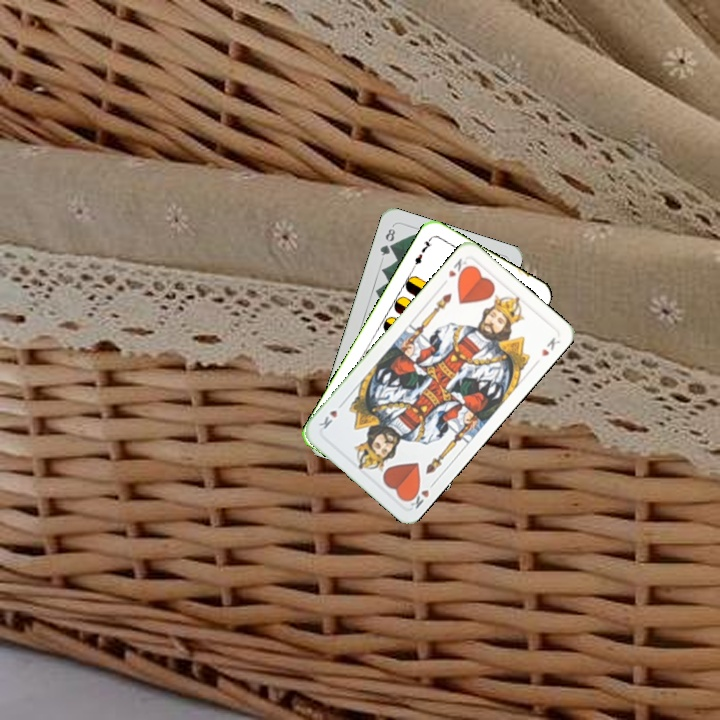E7: (409, 234, 435, 271)
G8: (376, 224, 398, 258)
HK: (403, 477, 438, 512), (444, 254, 472, 282)
